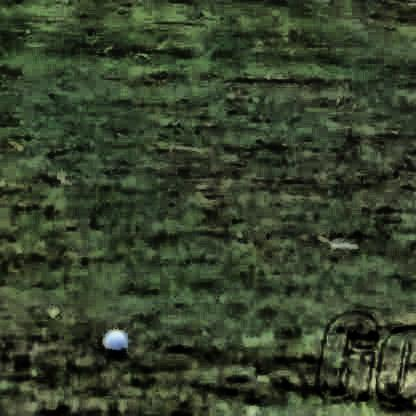golfball: (98, 327, 124, 353)
